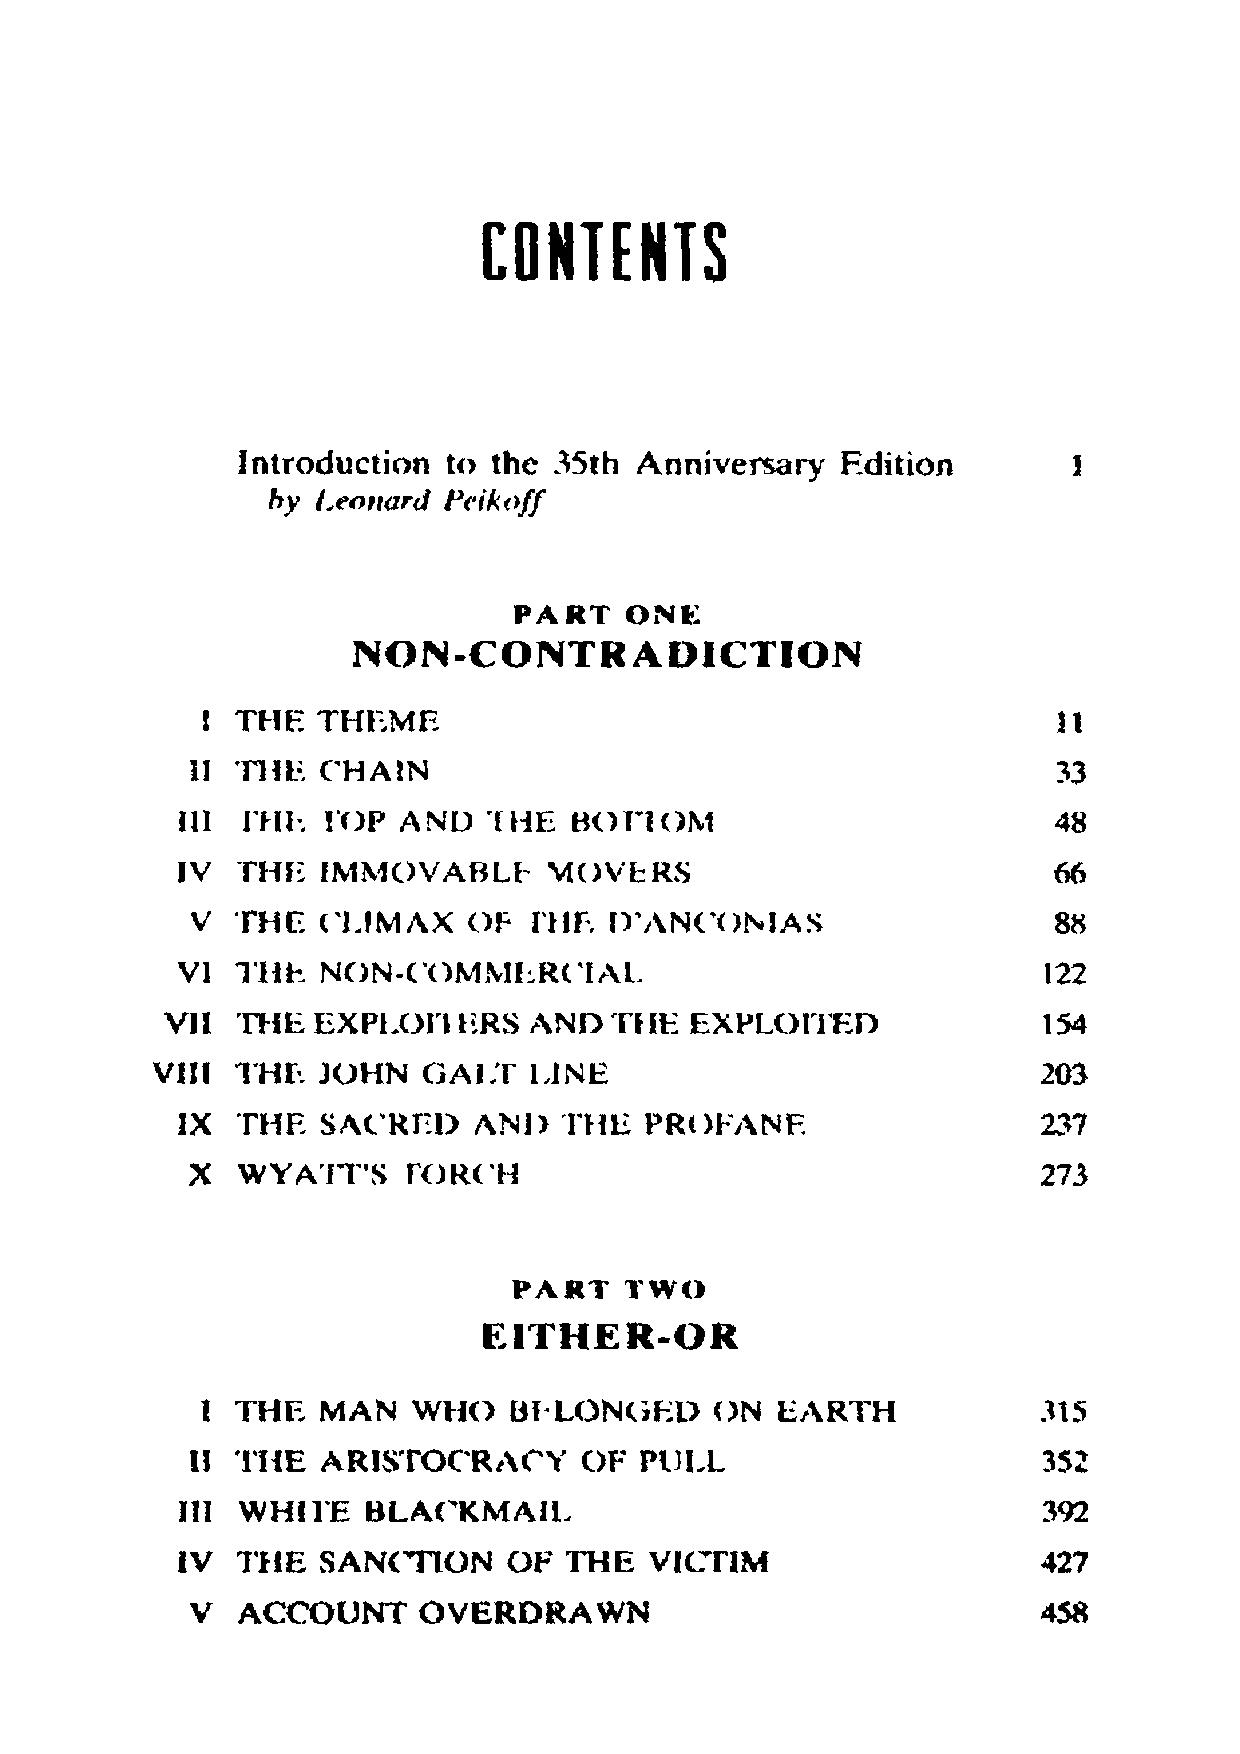TOC_chapter: (209, 436, 960, 514), (330, 588, 870, 672), (169, 1106, 819, 1146), (154, 1005, 880, 1040), (196, 1394, 899, 1427), (474, 1275, 743, 1355), (176, 1543, 772, 1578), (180, 905, 827, 935), (162, 855, 686, 890), (174, 804, 717, 837), (187, 1443, 727, 1476), (187, 1596, 672, 1631), (141, 1053, 616, 1088), (172, 954, 645, 982), (177, 1496, 576, 1527), (180, 1155, 538, 1189), (188, 697, 446, 734), (178, 752, 450, 782)
TOC_pagenumber: (1040, 1594, 1092, 1632), (1037, 1547, 1104, 1576), (1033, 1106, 1088, 1135), (1043, 1495, 1095, 1526), (1039, 1445, 1088, 1478), (1040, 1155, 1087, 1186), (1031, 1398, 1090, 1423), (1040, 1062, 1090, 1088), (1041, 956, 1082, 988), (1049, 702, 1084, 735), (1044, 1013, 1088, 1039), (1049, 907, 1084, 934), (1053, 757, 1084, 782), (1053, 860, 1084, 886), (1066, 450, 1092, 478), (1057, 807, 1084, 832)
chapter: (472, 213, 731, 287)
